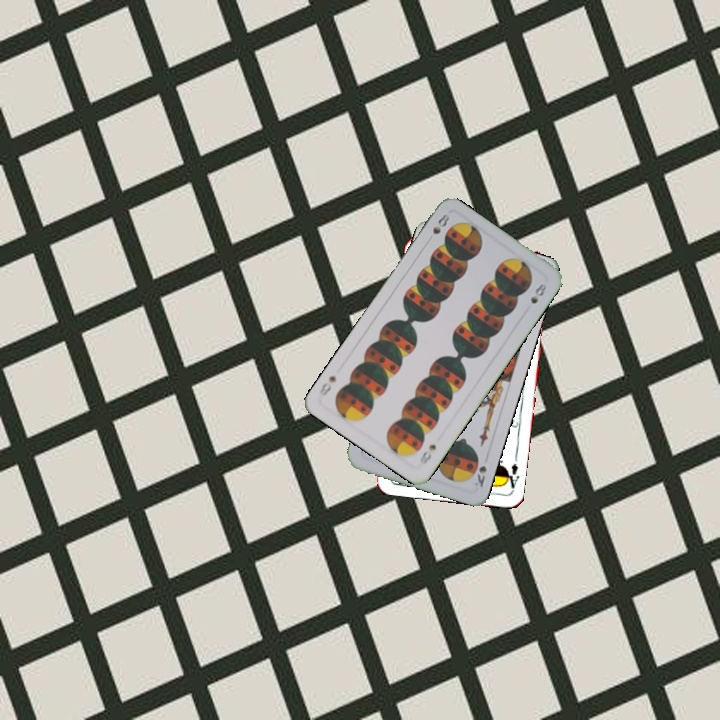EA: (500, 453, 521, 493)
S8: (428, 210, 452, 237), (416, 440, 439, 467)
SK: (470, 462, 489, 490)
